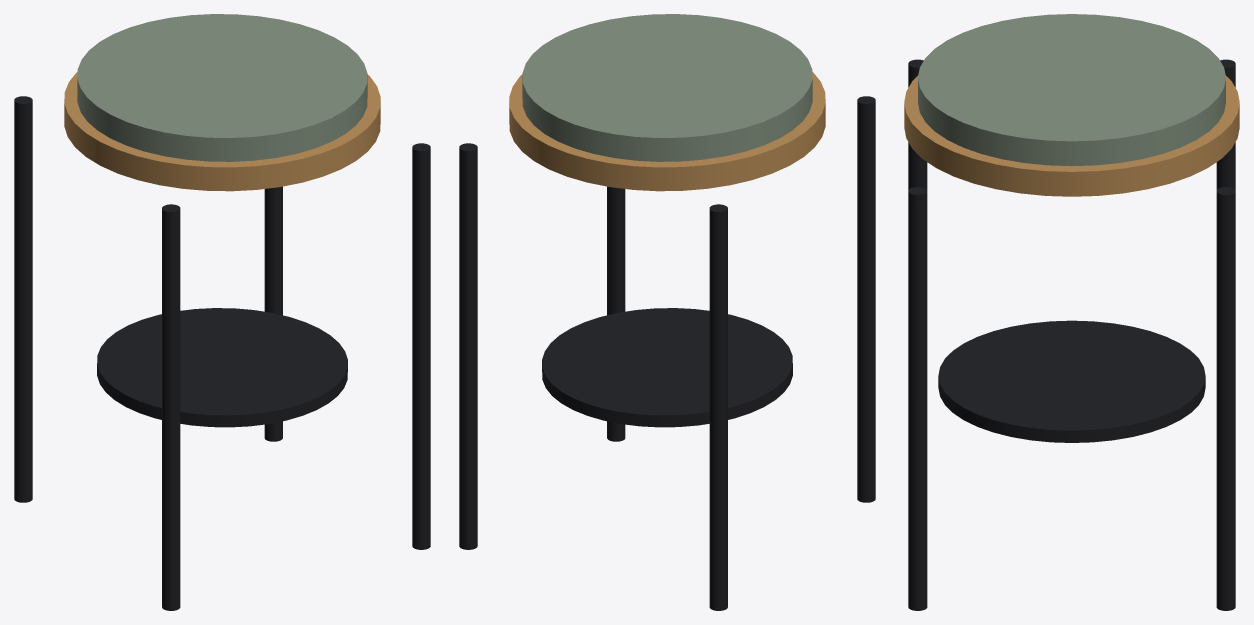
The model's file is bar_chair_round_01.gltf.
3 views of the same model, side by side, from view 1: azimuth 30°, elevation 25°; view 2: azimuth 150°, elevation 25°; view 3: azimuth 270°, elevation 25° (orthographic). The views are drawn at different scales.
Parts seen in each view (by area): view 1: bar_chair_round_01; view 2: bar_chair_round_01; view 3: bar_chair_round_01.
Boxes of the visible parts, x1,y1,x2,y2 form: bar_chair_round_01: (14,14,430,610); bar_chair_round_01: (459,14,875,610); bar_chair_round_01: (904,14,1239,610).
Size of the model in its own units: 0.48 by 0.75 by 0.49.
